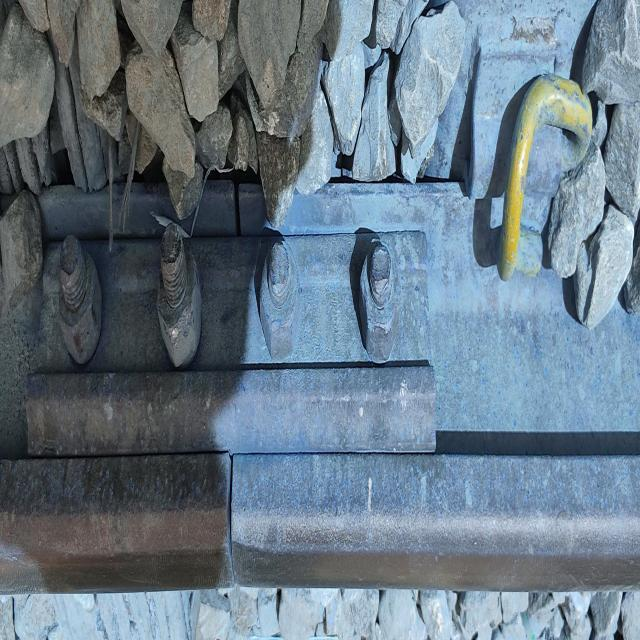Good Fasteners: (466, 2, 598, 306)
Good Joint: (36, 231, 443, 461)
